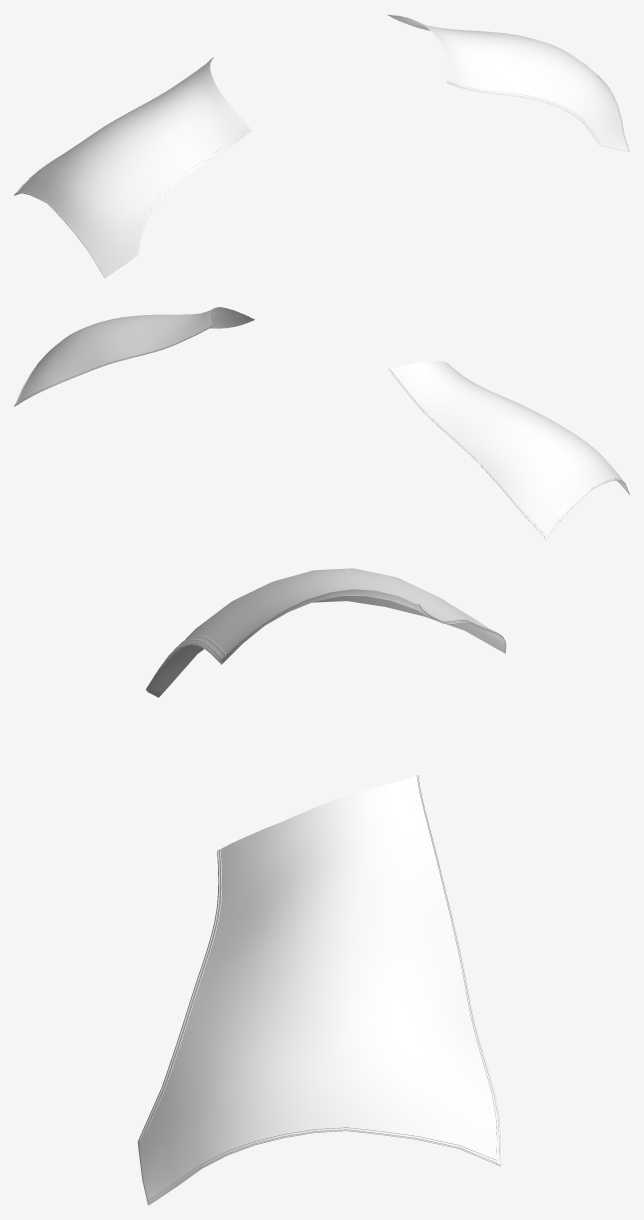
Rendered from Jac_Decor_Top_V1.glb.
3 renders of one model, top to bottom at view 1: azimuth 30°, elevation 25°; view 2: azimuth 150°, elevation 25°; view 3: azimuth 270°, elevation 25°, orthographic. The views are drawn at different scales.
Visible parts, largest first — view 1: Jac_Decor_TOP.001, Jac_Rope_Decor_TOP.001; view 2: Jac_Decor_TOP.001, Jac_Rope_Decor_TOP.001; view 3: Jac_Decor_TOP.001, Jac_Rope_Decor_TOP.001.
Boxes of the visible parts, x1,y1,x2,y2 form: Jac_Decor_TOP.001: (14,15,629,278); Jac_Rope_Decor_TOP.001: (14,14,629,277); Jac_Decor_TOP.001: (14,307,629,539); Jac_Rope_Decor_TOP.001: (14,319,629,538); Jac_Decor_TOP.001: (137,568,506,1205); Jac_Rope_Decor_TOP.001: (139,604,505,1203).
Size of the model in its own units: 0.7491 by 0.173 by 0.2193.
Materials: 2 (2 with a texture image).
